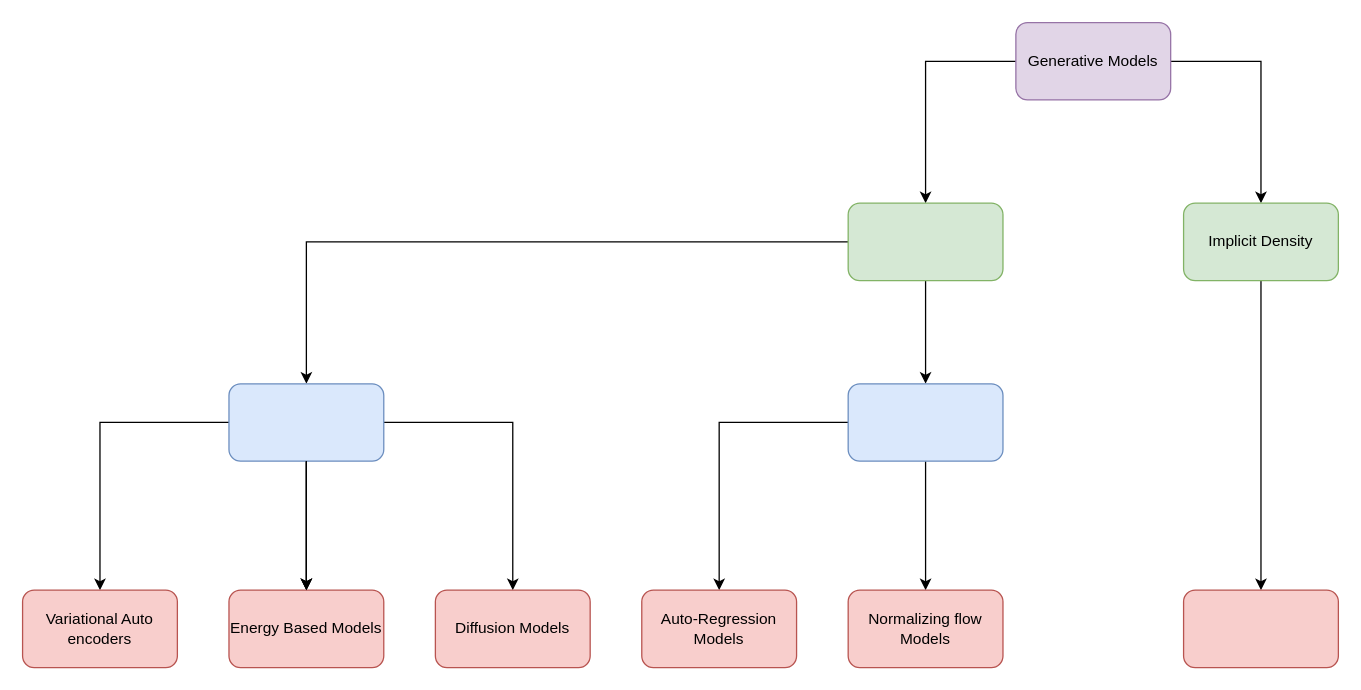
Some shapes in this 1361 by 690 pixel diagram are drawn without their labels. The centre of each missing label's shape, as x and y in pixels:
"Approximate Density" goes at [306,421].
"Explicit Density" goes at [925,241].
"Generative Adversarial Networks" goes at [1260,628].
"Tractable Density" goes at [925,421].
